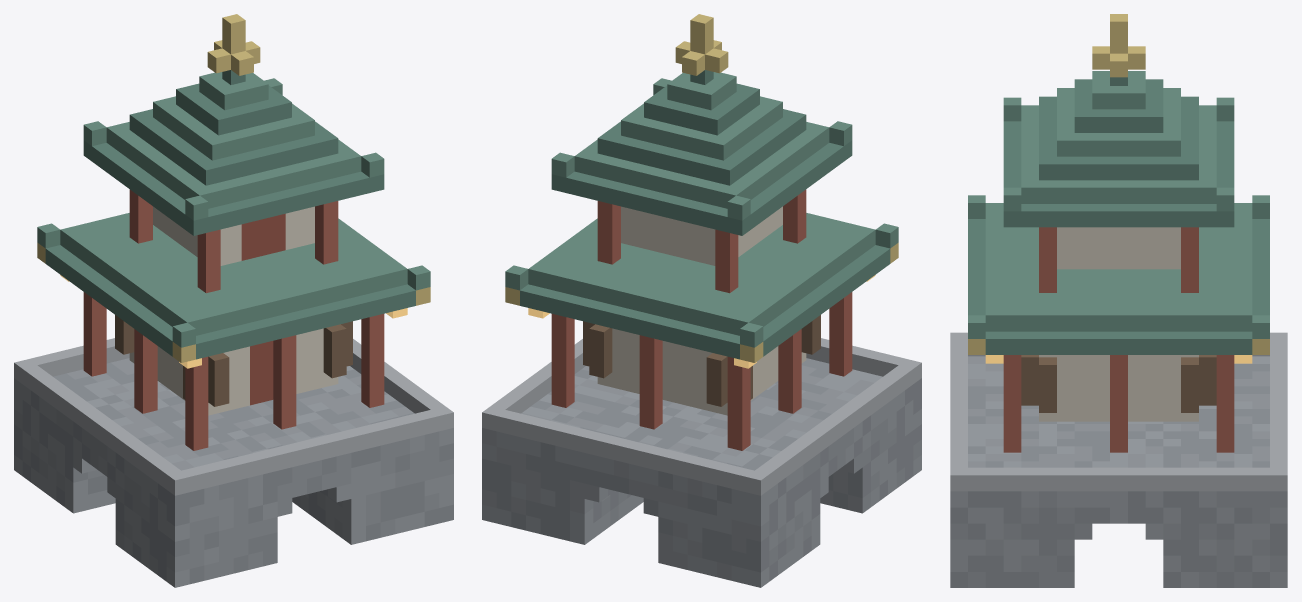
Rendered from xiyou_belltower.glb.
3 views of the same model, side by side, from view 1: azimuth 30°, elevation 25°; view 2: azimuth 150°, elevation 25°; view 3: azimuth 270°, elevation 25° (orthographic). The views are drawn at different scales.
Parts seen in each view (by area): view 1: xiyou_belltower; view 2: xiyou_belltower; view 3: xiyou_belltower.
Part boxes in pixels (x1=…): xiyou_belltower: x1=14, y1=14, x2=453, y2=587; xiyou_belltower: x1=482, y1=14, x2=921, y2=587; xiyou_belltower: x1=950, y1=14, x2=1287, y2=587.
Size of the model in its own units: 8.55 by 13.95 by 8.55.
